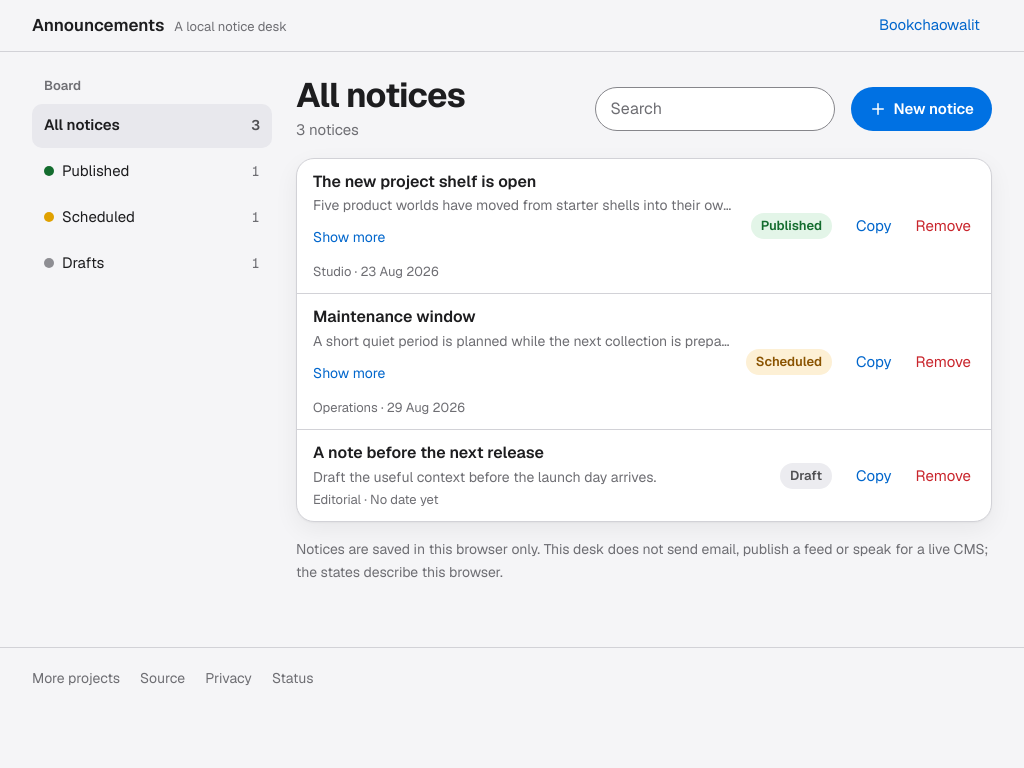
Test: batch Undo › consecutive removes restore together with one Undo
Click the 2nd button with class "as-danger": (943, 362) [904,340,983,384]
Wait 4000 ms
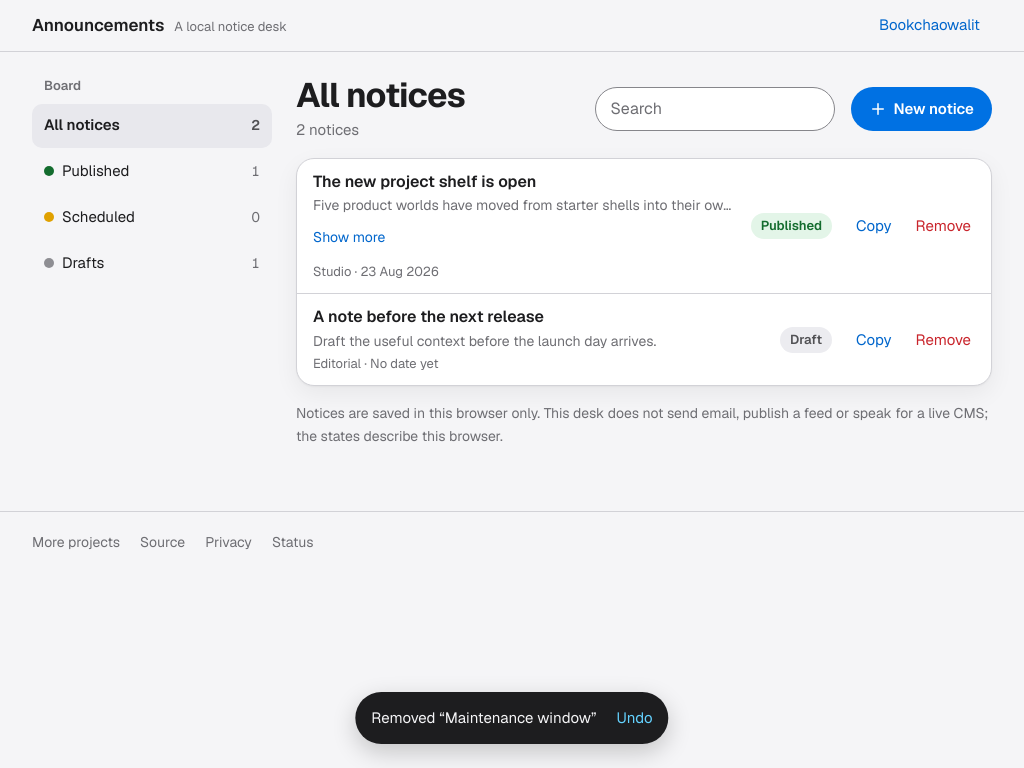
Click the 1st button with class "as-danger": (943, 226) [904,204,983,248]
Wait 4000 ms
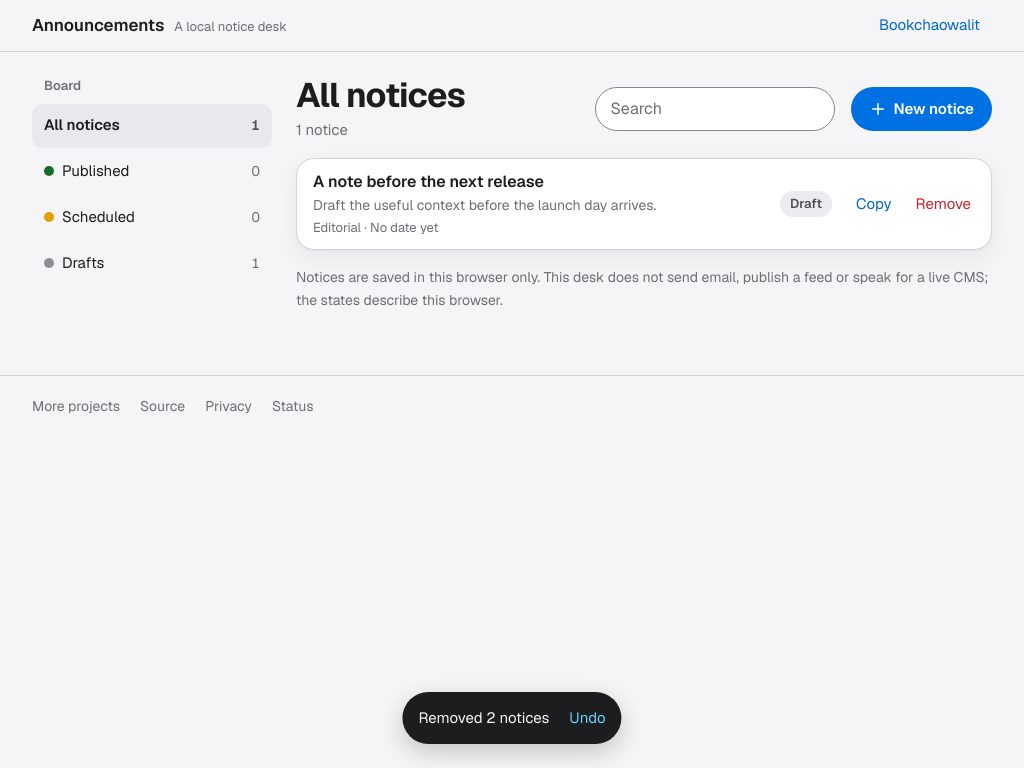
Expected: the text "Removed 2 notices" is shown, [418,707,549,729]
Click the button "Undo": (587, 718) [557,696,618,740]
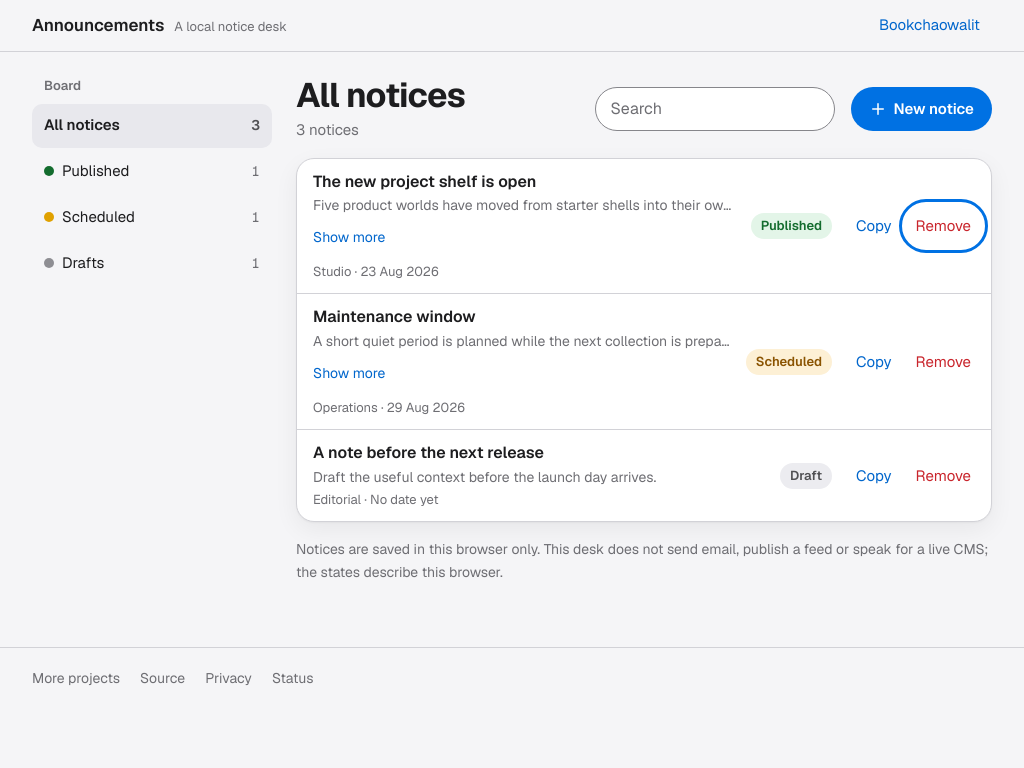
Expected: the element with class "as-toast" is gone
